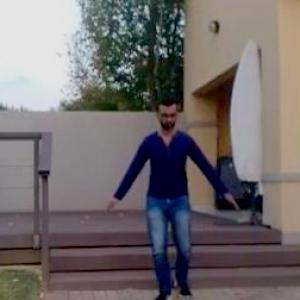land: (114, 95, 242, 299)
